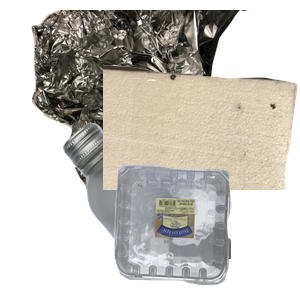glass: (60, 120, 300, 300)
metal: (29, 10, 269, 190)
plastic: (112, 162, 300, 300)
trash: (103, 62, 300, 242)
